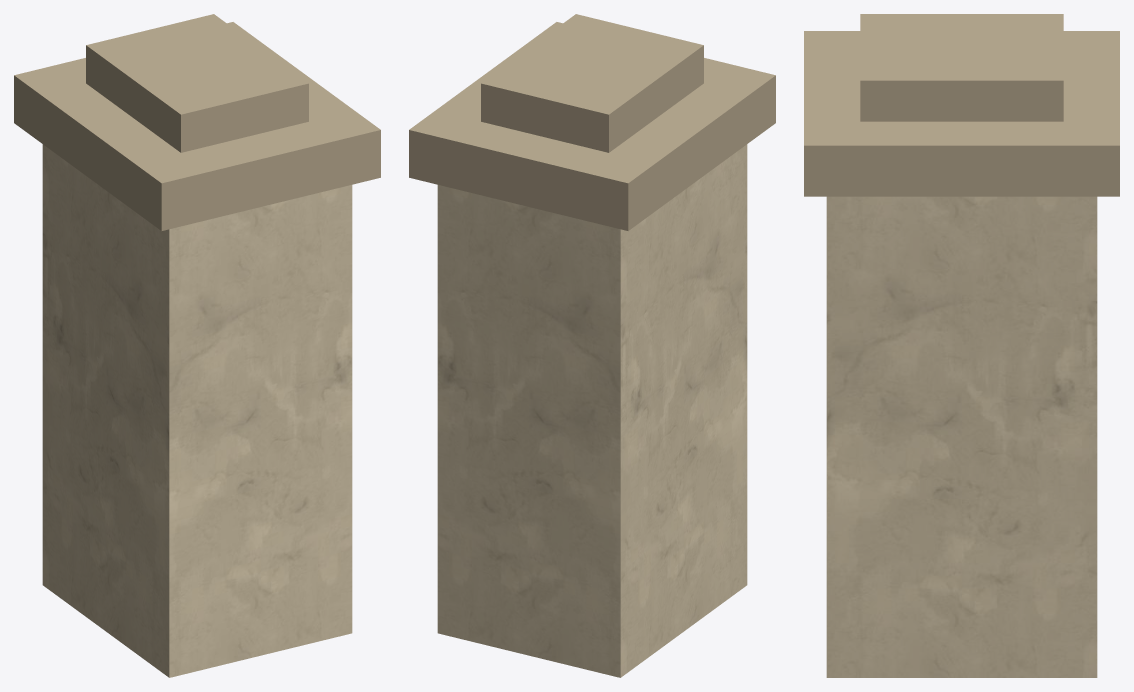
Rendered from chimney.glb.
3 views of the same model, side by side, from view 1: azimuth 30°, elevation 25°; view 2: azimuth 150°, elevation 25°; view 3: azimuth 270°, elevation 25° (orthographic). The views are drawn at different scales.
Visible parts, largest first — view 1: chimney; view 2: chimney; view 3: chimney.
Part boxes in pixels (x1=…): chimney: x1=14, y1=14, x2=380, y2=677; chimney: x1=409, y1=14, x2=775, y2=677; chimney: x1=804, y1=14, x2=1119, y2=677.
Size of the model in its own units: 1.2 by 2.85 by 1.4.
2 materials, 1 textured.
